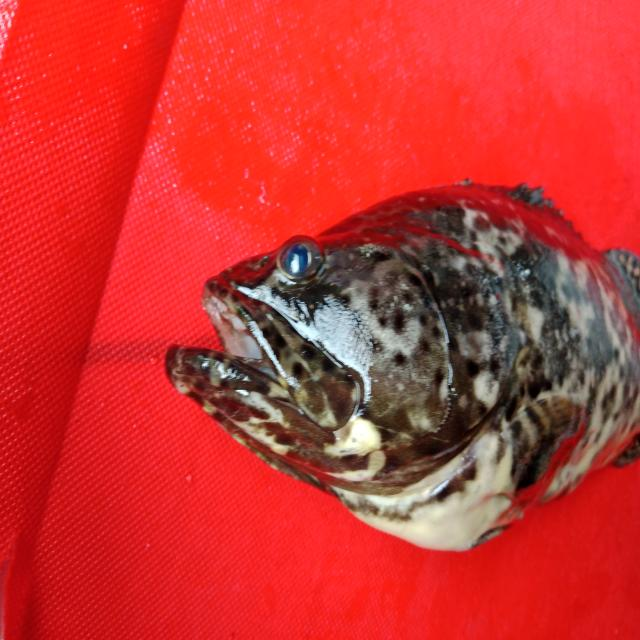ikan: (158, 170, 634, 560)
